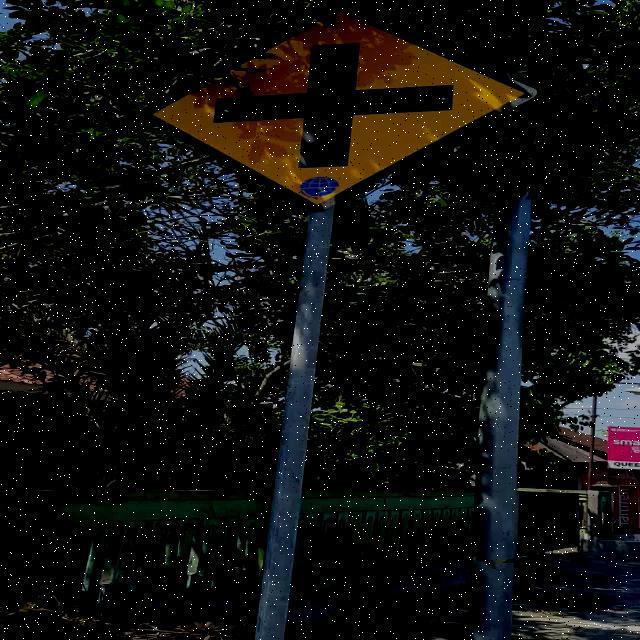Persimpangan 4: (143, 3, 537, 212)
